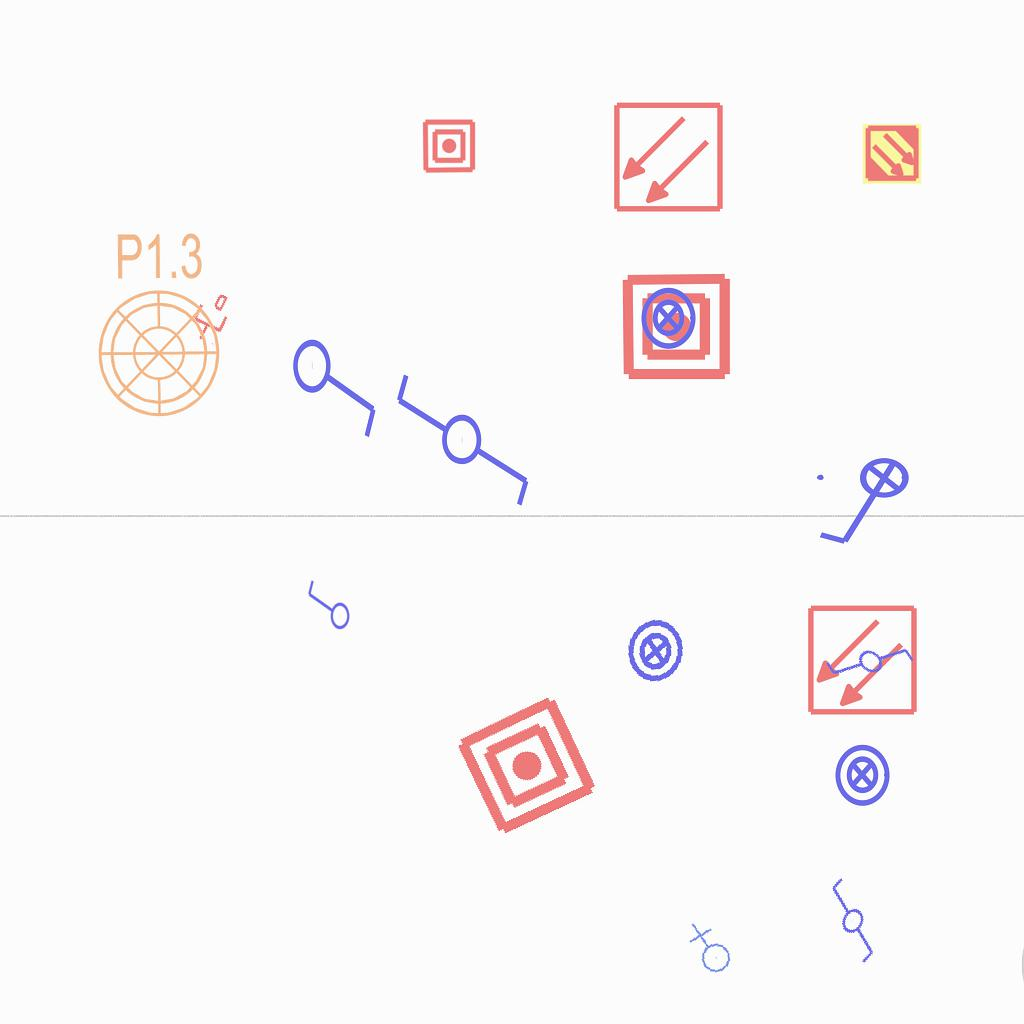ASR_Ansaugrauchmelder: (861, 123, 923, 185)
Aufbaurundleuchte_LED_Treppenhaus: (95, 215, 234, 420)
Ausschalter: (290, 328, 386, 440), (303, 579, 351, 635)
Ausschalter_beleuchtet: (811, 456, 923, 552)
Datenanschluss_einfach: (184, 287, 238, 347)
Elektroanschluss_allgemein_230V_Geraeteanschlussdose_230V: (681, 922, 736, 979)
NAM-Nichtautomatischer_Melder: (451, 690, 602, 841), (620, 270, 733, 383), (421, 118, 477, 174)
RMO_Rauchmelder_optischer: (806, 604, 919, 717), (612, 101, 725, 214)
Taster_beleuchtet: (618, 613, 694, 689), (829, 742, 895, 808), (635, 285, 701, 351)
Wechselschalter: (392, 353, 536, 510), (819, 612, 927, 718), (800, 872, 900, 976)
